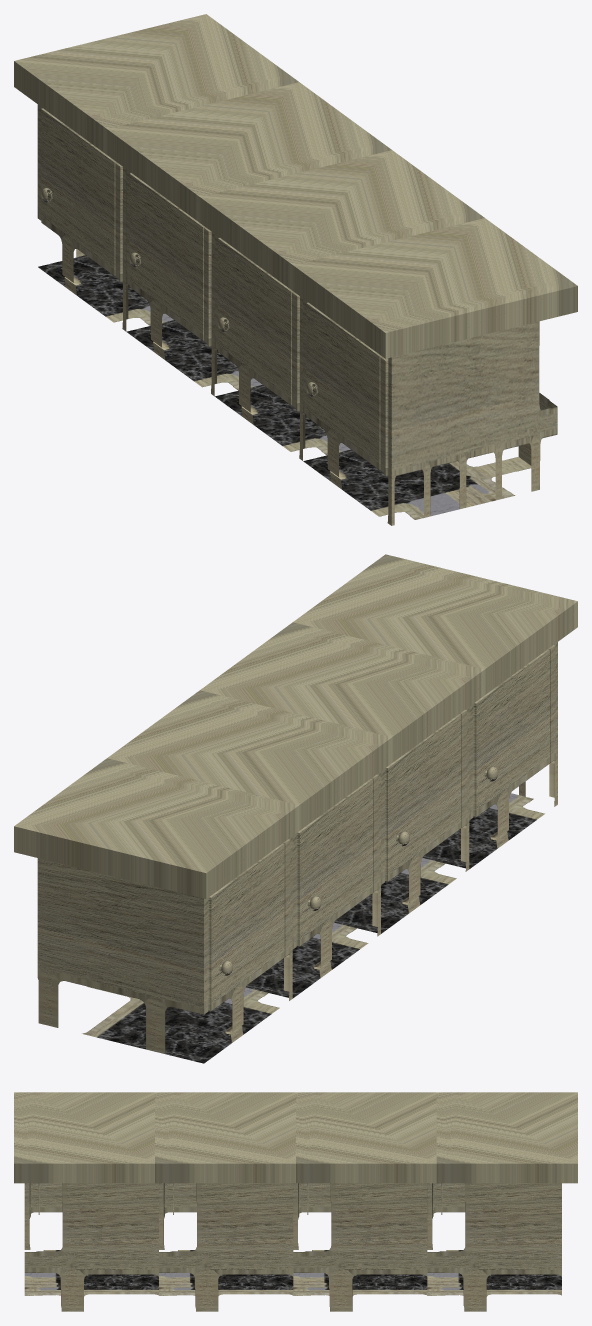
File: bancada.fbx
The picture shows the model from 3 angles, top to bottom: view 1: azimuth 30°, elevation 25°; view 2: azimuth 150°, elevation 25°; view 3: azimuth 270°, elevation 25°; orthographic projection. The views are drawn at different scales.
Parts seen in each view (by area): view 1: Cube.002; view 2: Cube.002; view 3: Cube.002.
Part boxes in pixels (x1,y1,x2,y2): Cube.002: (14,14,577,525); Cube.002: (14,554,577,1063); Cube.002: (14,1092,577,1311).
Size of the model in its own units: 55 by 55 by 184.
1 material, 1 textured.
